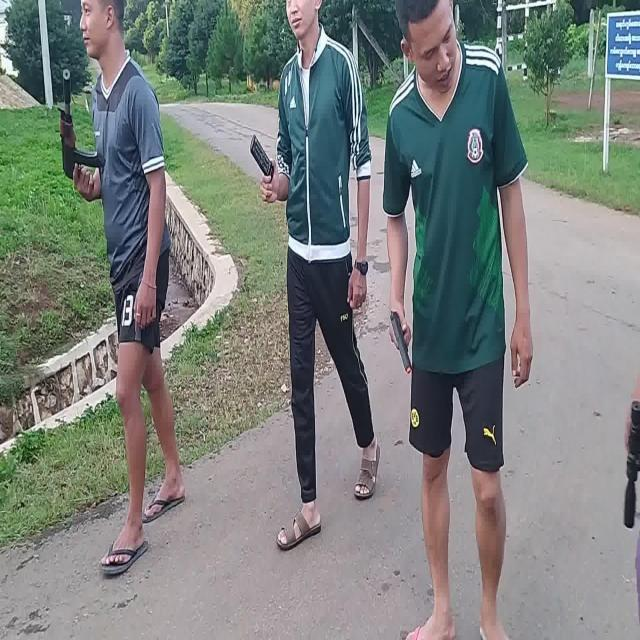gun: (60, 70, 104, 179), (387, 310, 411, 374)
